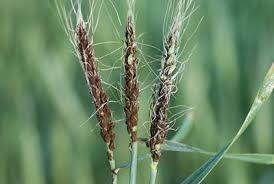Wheat Loose Smut: (70, 13, 176, 152)
